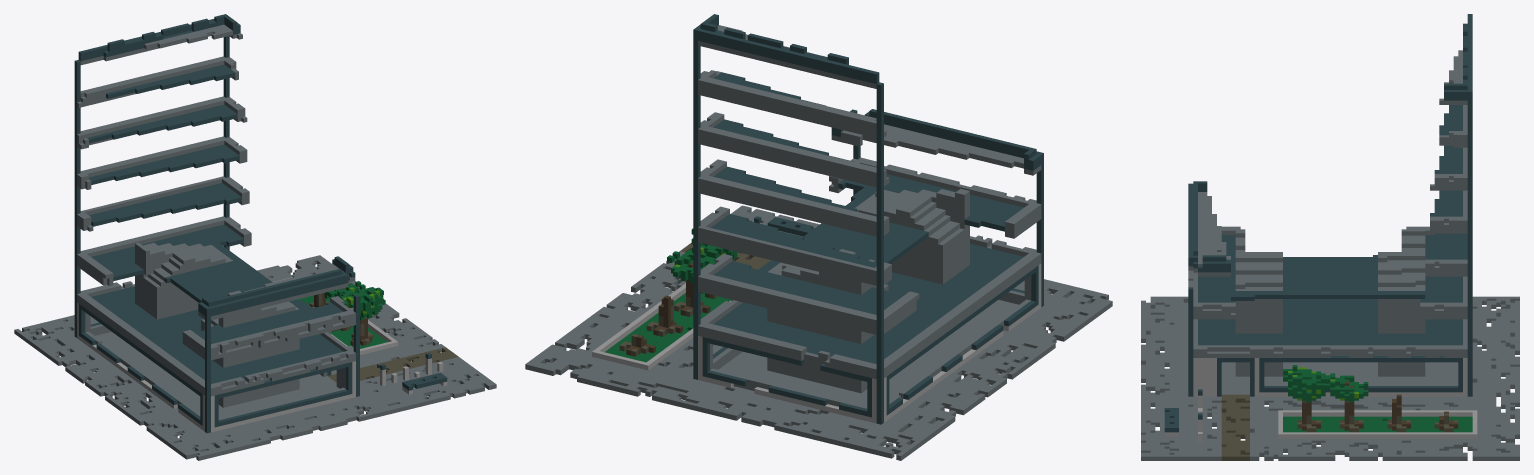
File: building_big_4_destroyed.obj
3 renders of one model, left to right at view 1: azimuth 30°, elevation 25°; view 2: azimuth 150°, elevation 25°; view 3: azimuth 270°, elevation 25°, orthographic. The views are drawn at different scales.
Bounding box in the file's own units: 8 × 7.3 × 8.
1 material, 1 textured.
